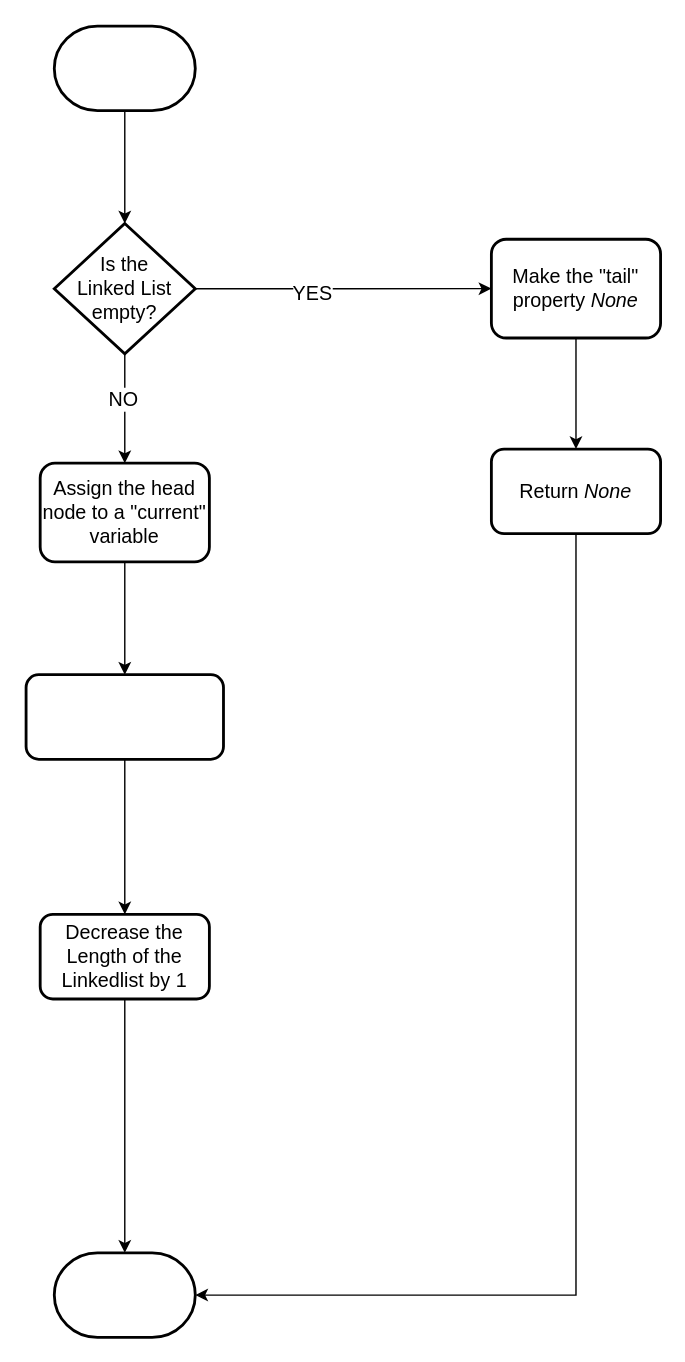
This 685x1362 diagram has some shape labels left out. Each missing label, with the box of its shape:
END: (52, 1251, 196, 1338)
Make the next node from the head, the new head: (24, 673, 224, 760)
START: (52, 24, 196, 111)
